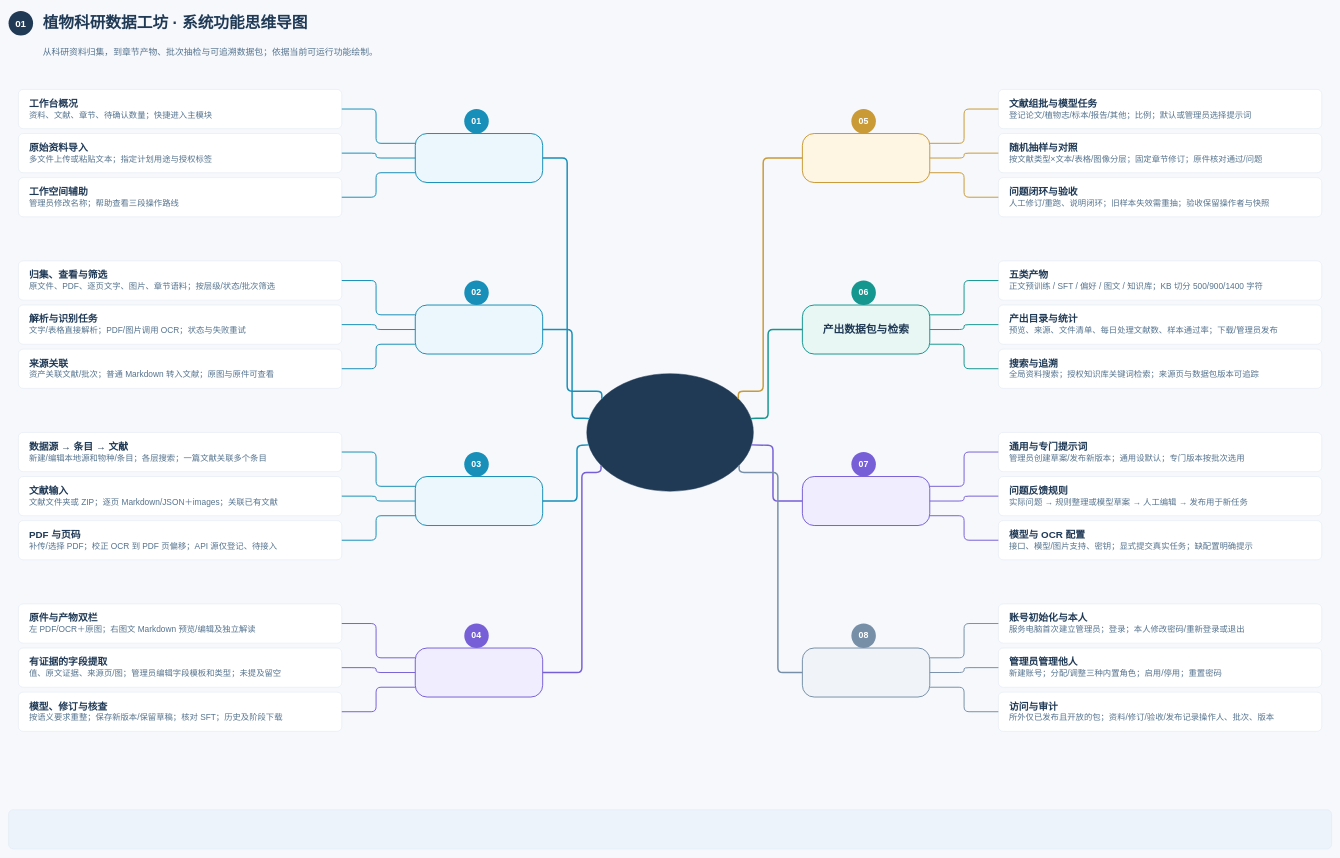
Some shapes in this 1340 by 858 pixel diagram are drawn without their labels. Here are the shapes that lost their labels. From the top down, the box of each, then its label:
(415, 133, 543, 183): 工作台与资料接入
(802, 133, 930, 183): 批次处理与抽检
(415, 304, 543, 354): 数据资产与 OCR
(586, 373, 753, 491): 植物科研 数据工坊 资料 → 章节 → 批次 → 数据包
(415, 476, 543, 526): 三级目录与原件
(802, 476, 930, 526): 提示词与服务管理
(415, 647, 543, 697): 章节整理与字段
(802, 647, 930, 697): 账号权限与审计
(8, 809, 1332, 849): 实际边界：平台生产训练数据，不执行大模型训练。知识库当前为关键词检索；抽检通过率只描述样本。角色固定为管理员、所内、所外。
